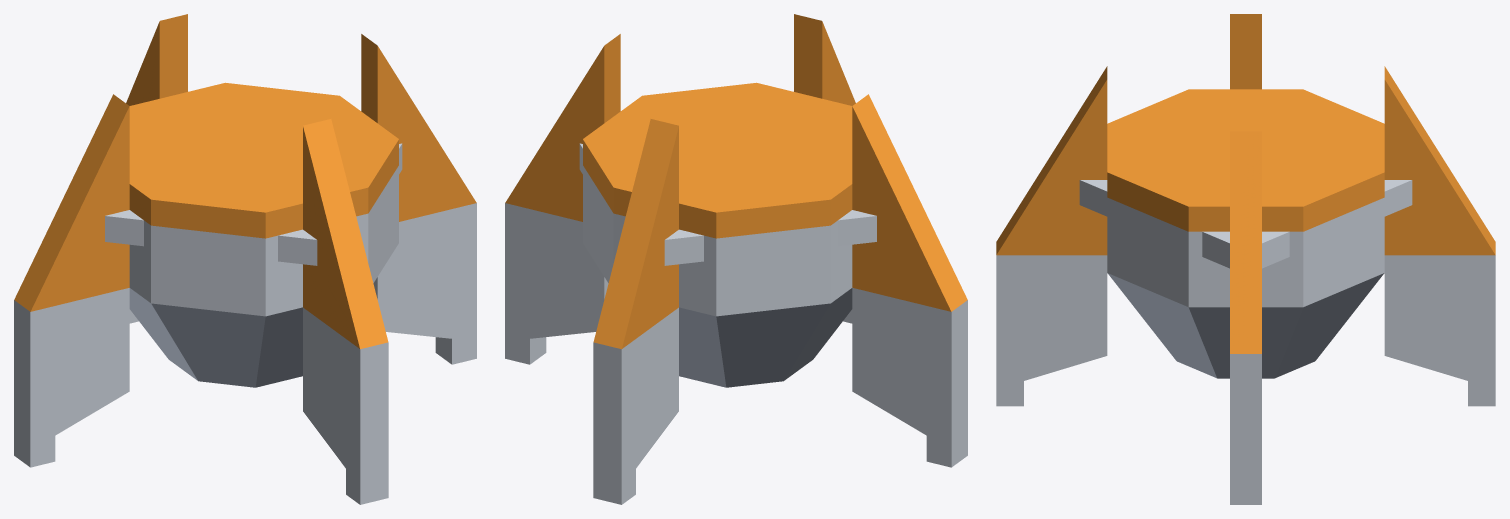
The model's file is rocket_baseB.glb.
3 views of the same model, side by side, from view 1: azimuth 30°, elevation 25°; view 2: azimuth 150°, elevation 25°; view 3: azimuth 270°, elevation 25° (orthographic). The views are drawn at different scales.
Visible parts, largest first — view 1: rocket_baseB; view 2: rocket_baseB; view 3: rocket_baseB.
Boxes of the visible parts, x1,y1,x2,y2 form: rocket_baseB: [14, 14, 476, 504]; rocket_baseB: [505, 14, 967, 504]; rocket_baseB: [996, 14, 1495, 504].
Size of the model in its own units: 1.8 by 1.3 by 1.8.
